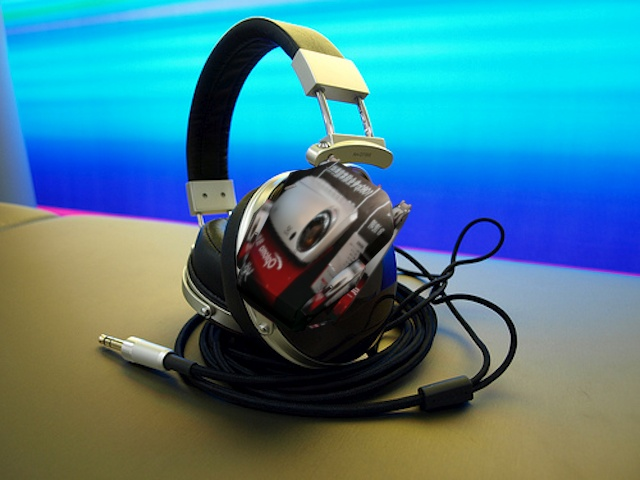back_pack: (224, 145, 416, 337)
